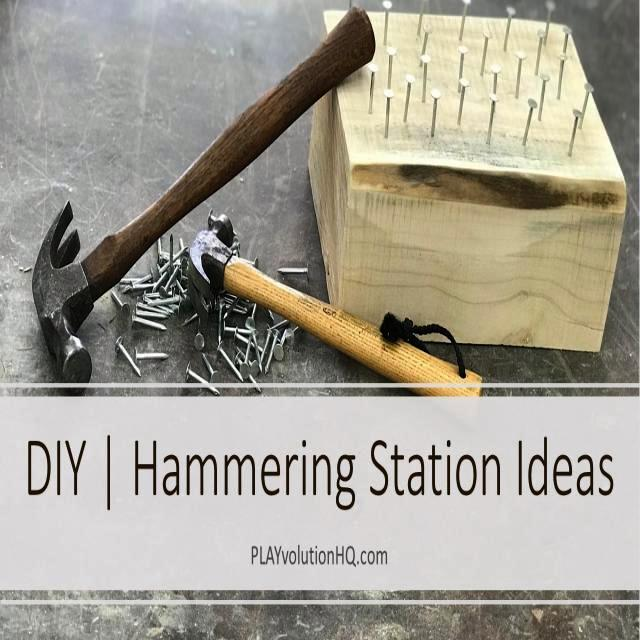hammer: (29, 0, 377, 393), (191, 202, 494, 412)
